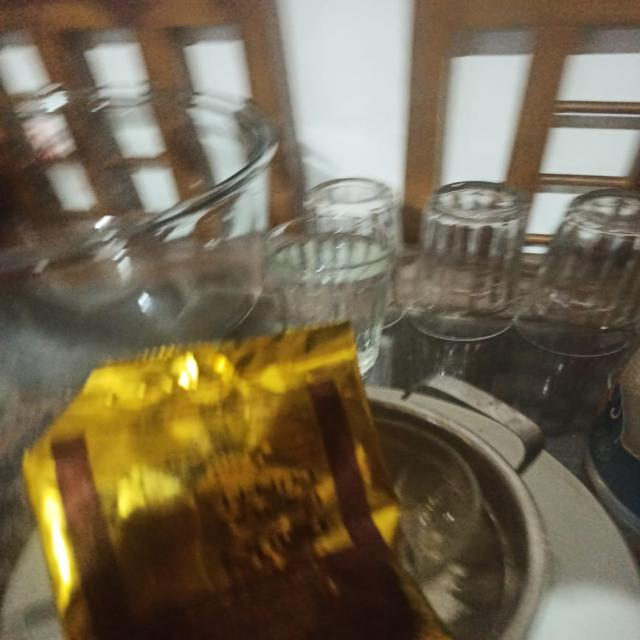Harischandra Coffee: (0, 343, 578, 640)
